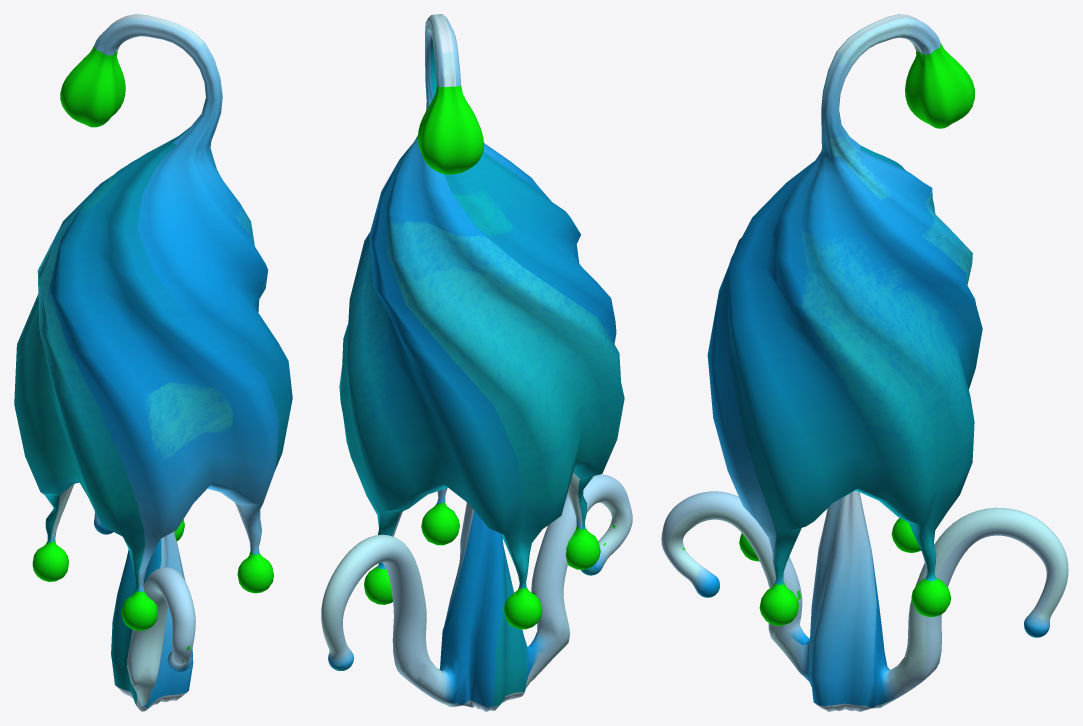
Rendered from plant_ame_2_1.fbx.
The picture shows the model from 3 angles, left to right: view 1: azimuth 30°, elevation 25°; view 2: azimuth 150°, elevation 25°; view 3: azimuth 270°, elevation 25°; orthographic projection. The views are drawn at different scales.
Parts seen in each view (by area): view 1: polySurface40; view 2: polySurface40; view 3: polySurface40.
Part boxes in pixels (x1,y1,x2,y2): polySurface40: [14, 14, 292, 711]; polySurface40: [321, 14, 632, 711]; polySurface40: [661, 14, 1068, 711].
Bounding box in the file's own units: 3.24 × 8.99 × 4.8.
3 materials, 2 textured.
